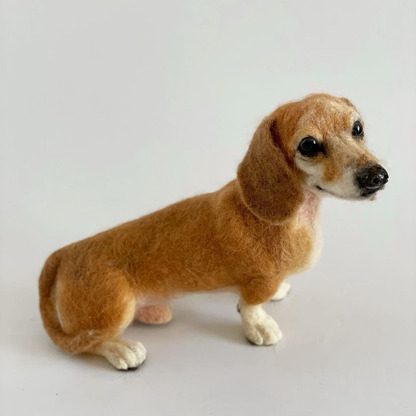dachshund: (28, 86, 395, 371)
